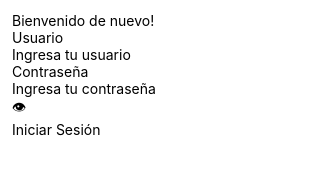
Test case: LoginScreen - Comprehensive Test Suite › ✅ Validaciones de login › muestra error cuando se intenta hacer login solo con contraseña
In the password field with placeholder "Ingresa tu contraseña": (121, 88) [12,80,230,97], type "test_password"
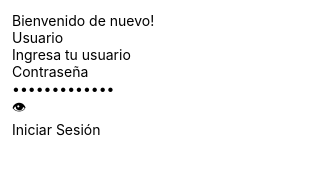
Click the button with test id "login-button": click(121, 130) [12,121,230,138]
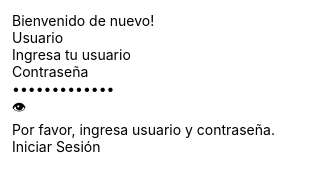
Expected: the text "Por favor, ingresa usuario y contraseña." is shown, [12,121,275,138]
